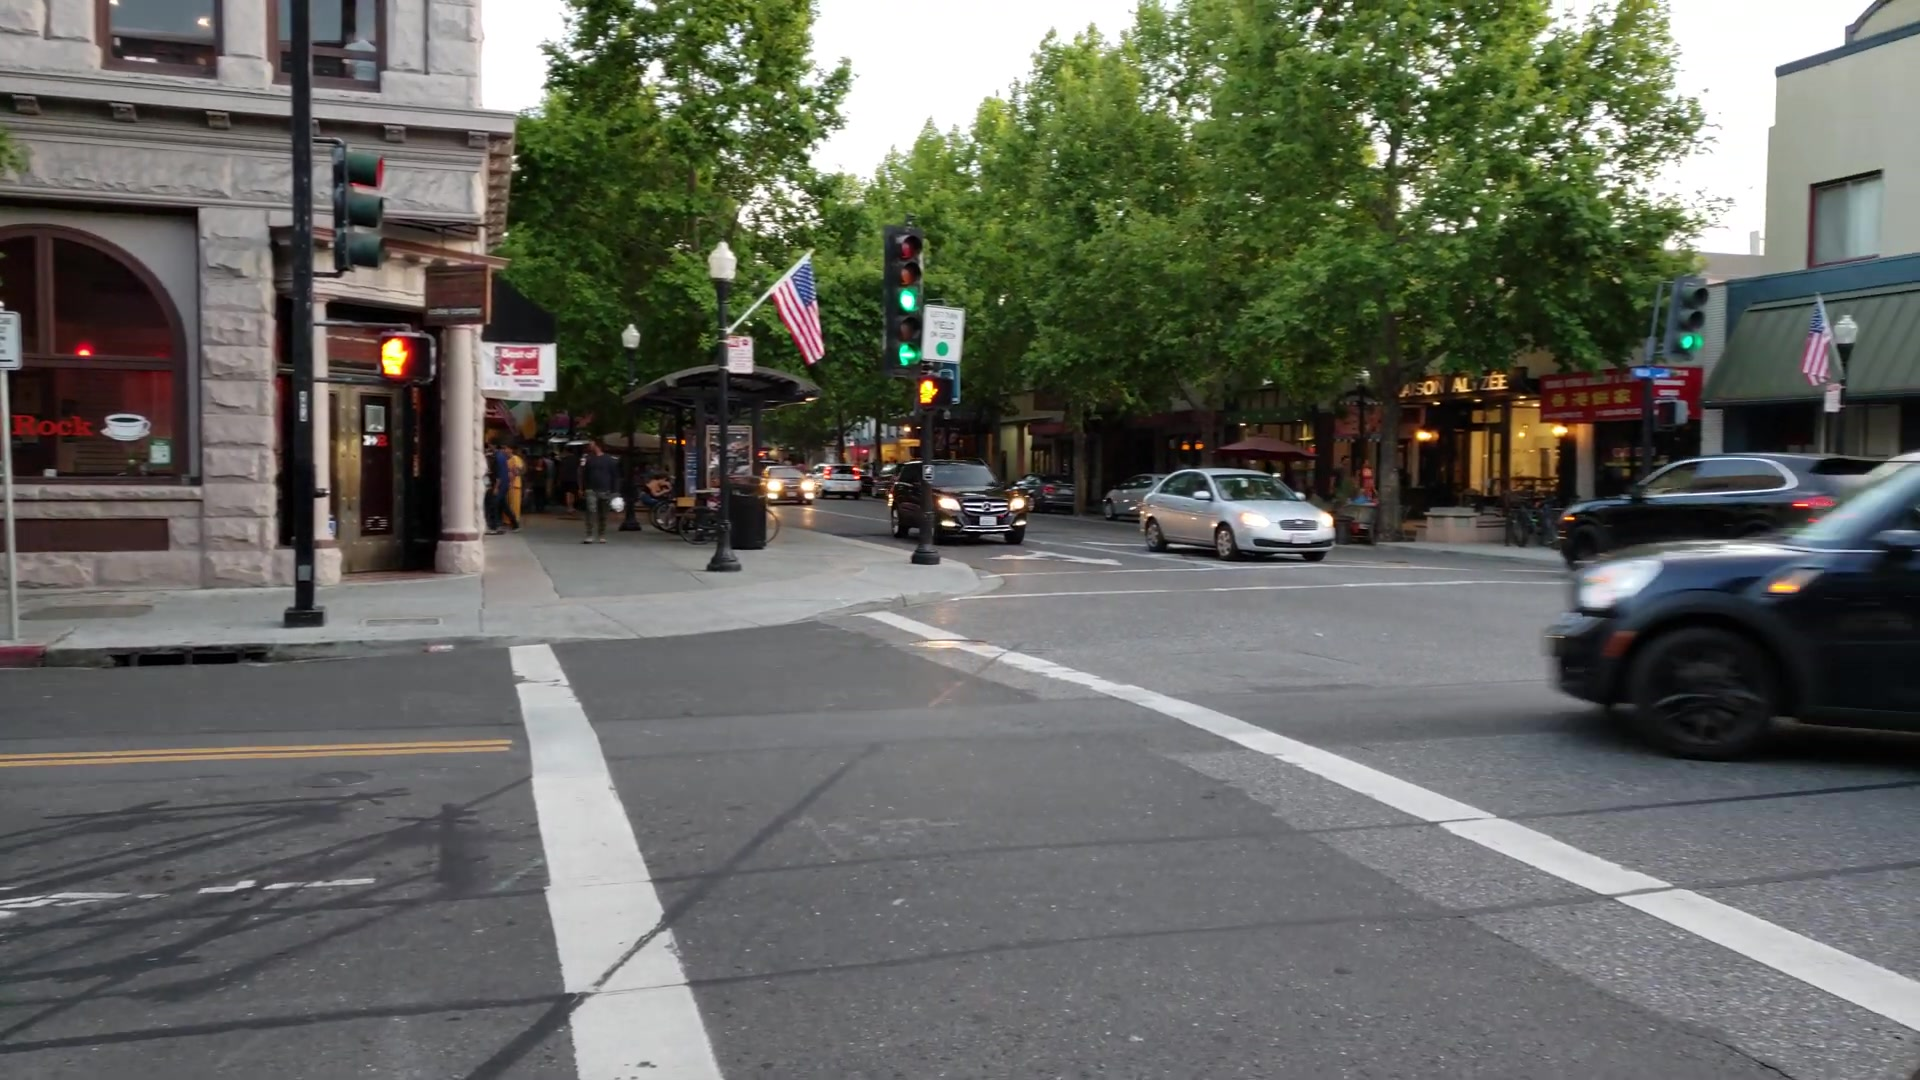vehicle: (1141, 465, 1333, 560), (887, 462, 1029, 547), (764, 464, 818, 504)
